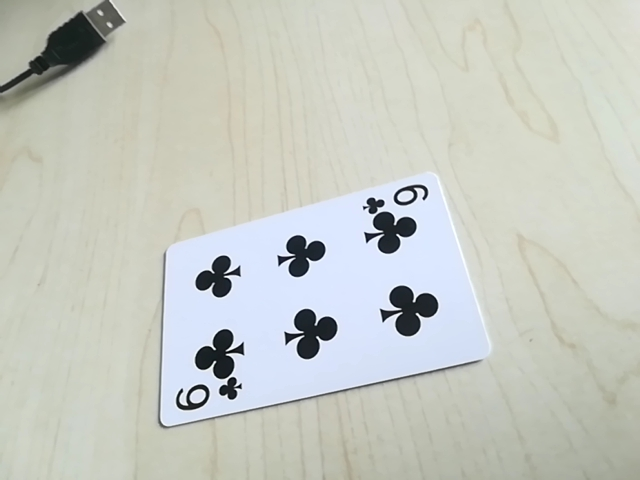mh 6: (170, 378, 243, 419), (364, 183, 434, 215)
